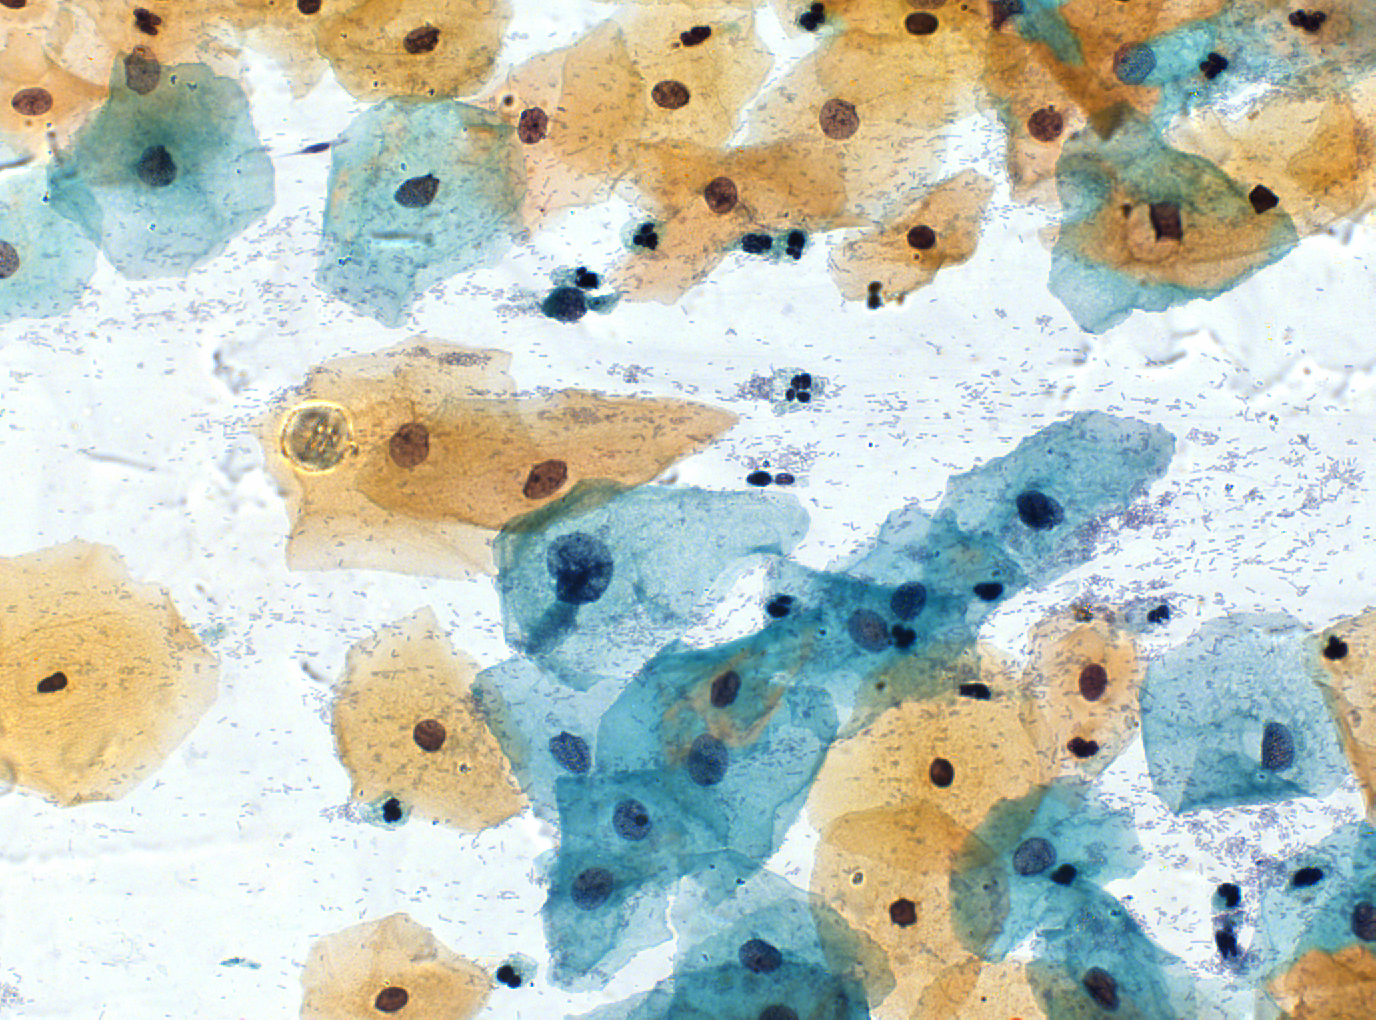Abn: (545, 531, 615, 605)
